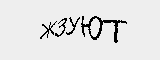Ж: (39, 19, 56, 39)
З: (56, 17, 68, 37)
Т: (103, 17, 127, 42)
У: (66, 15, 78, 36)
Ю: (82, 15, 103, 40)
